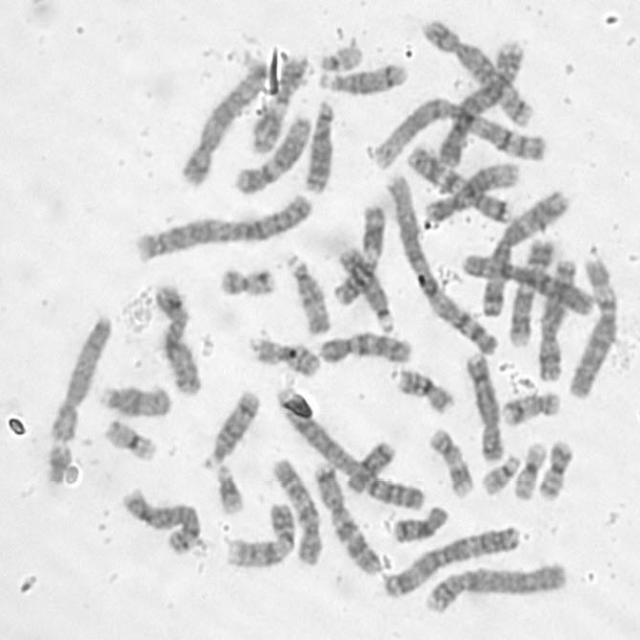A1: (384, 170, 500, 356), (368, 94, 546, 171)
A2: (281, 408, 426, 512), (132, 188, 314, 265)
A3: (477, 186, 572, 321), (379, 522, 522, 600)
B4: (435, 43, 520, 175), (420, 557, 569, 616)
B5: (420, 15, 535, 128), (176, 54, 270, 190)
C10: (269, 454, 324, 567), (316, 328, 414, 365)
C11: (246, 49, 312, 155), (329, 201, 386, 306)
C12: (230, 110, 314, 196), (423, 160, 524, 228)
C6: (457, 249, 596, 317), (562, 252, 619, 401)
C7: (404, 142, 514, 224), (310, 458, 383, 577)
C8: (119, 484, 202, 556), (462, 348, 505, 464)
C9: (505, 238, 556, 350), (222, 498, 297, 570)
D13: (335, 242, 395, 334), (301, 96, 337, 195)
D14: (198, 386, 263, 472), (316, 59, 410, 97)
D15: (283, 249, 332, 337), (96, 380, 174, 418)
E16: (247, 332, 321, 378), (392, 365, 454, 415)
E17: (426, 424, 475, 500), (499, 387, 561, 428)
E18: (343, 436, 397, 496), (390, 502, 450, 544)
F19: (101, 416, 160, 463), (509, 437, 548, 502)
F20: (534, 437, 576, 503), (214, 263, 279, 298)
G21: (212, 460, 246, 516), (39, 444, 74, 489)
G22: (478, 451, 522, 496), (315, 41, 365, 73)
X: (146, 284, 206, 401), (532, 258, 582, 382)
